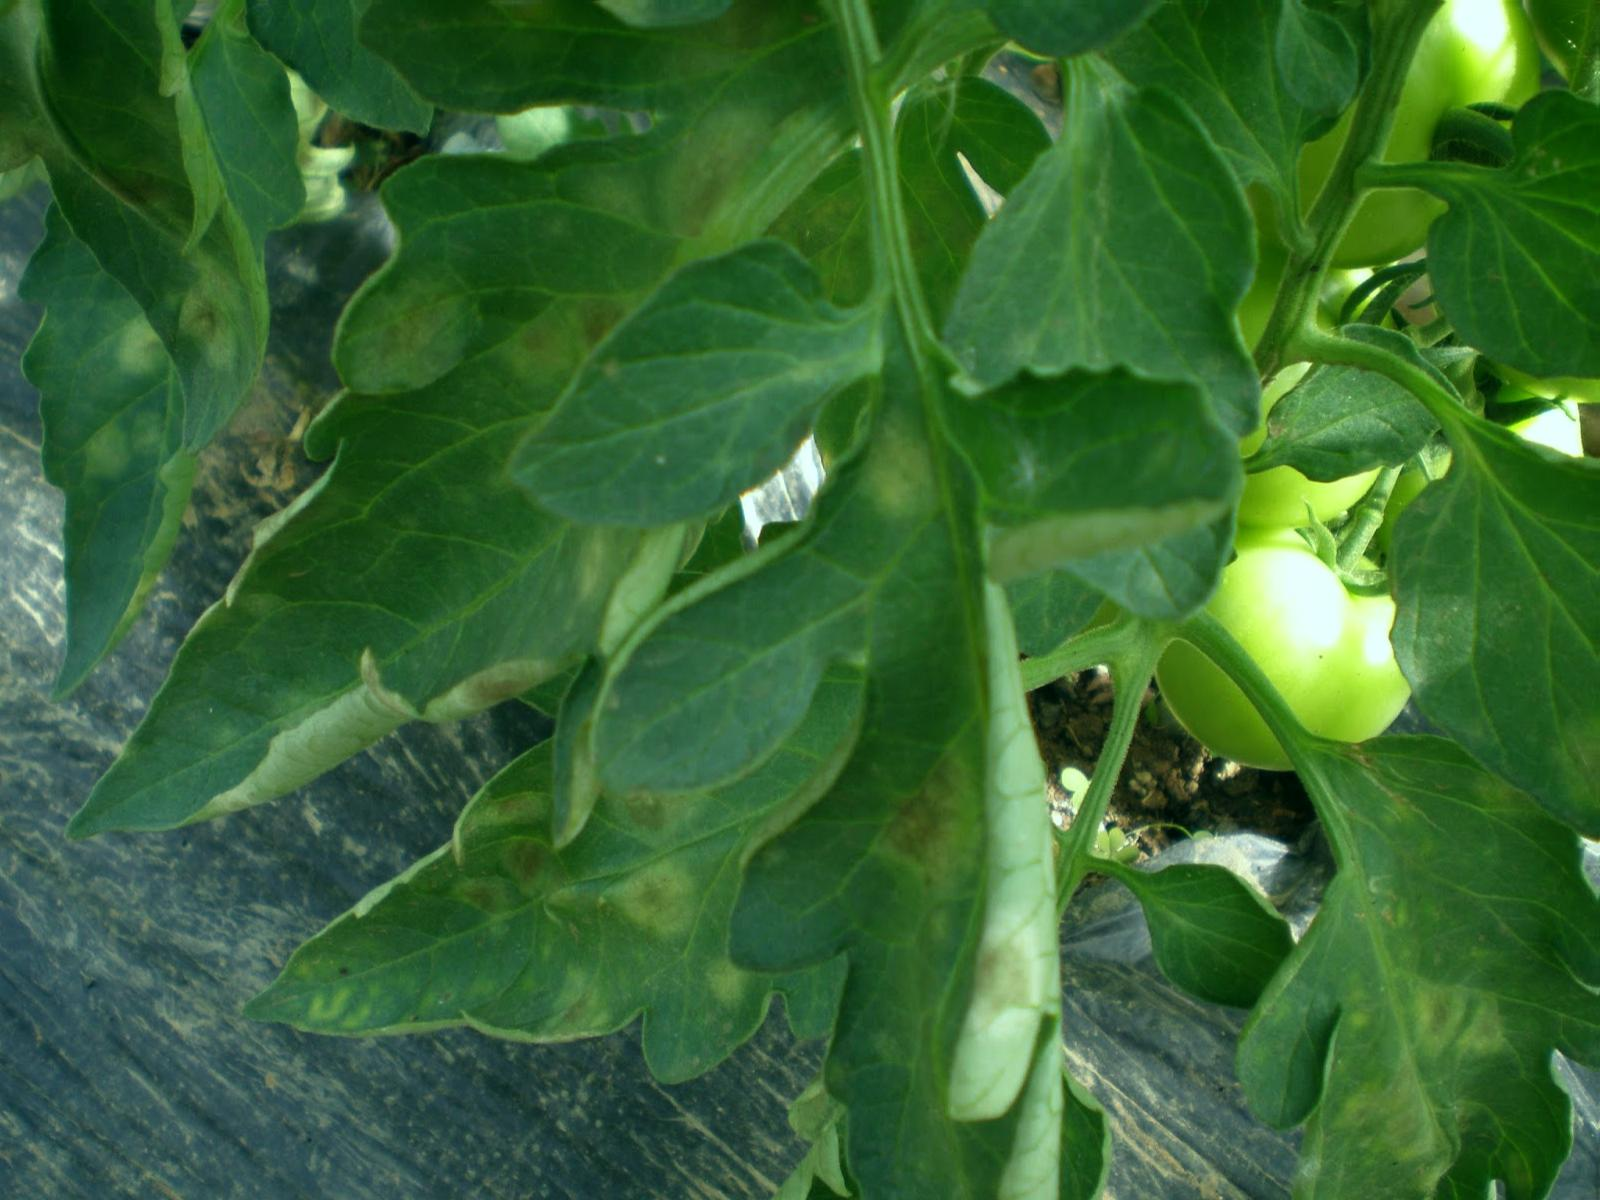Tomato mold leaf: (91, 47, 913, 834), (276, 597, 837, 1071), (763, 454, 1076, 1177), (8, 1, 295, 692), (1238, 712, 1597, 1200), (940, 49, 1272, 413)
